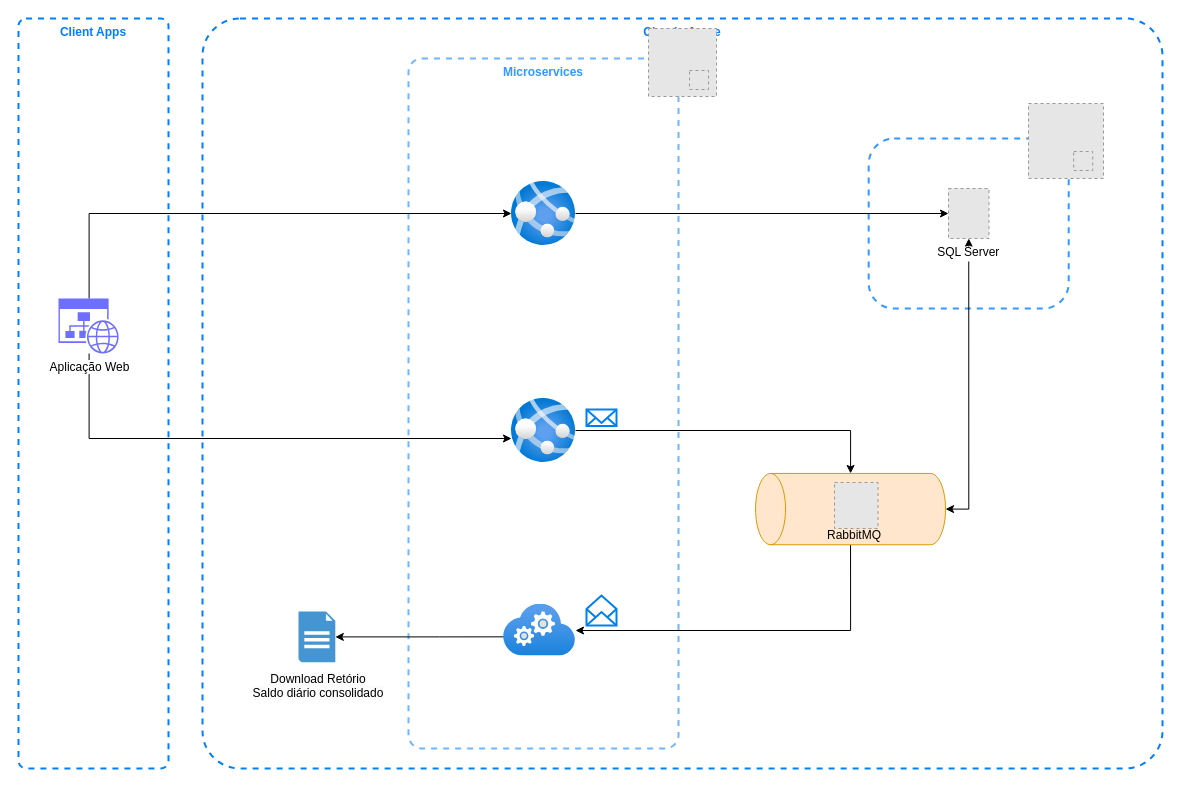
Image size: 1180x786. Some labels were removed from this diagram. Grey dashed boxes stand in for pictures. The shapes that lost their labels are listed below. From the top down, each one's centre as x and y in pixels, then its label:
At point 543,213: "Fluxo Caixa".
At point 543,430: "Relatório".
At point 539,630: "Processar Relatório".
